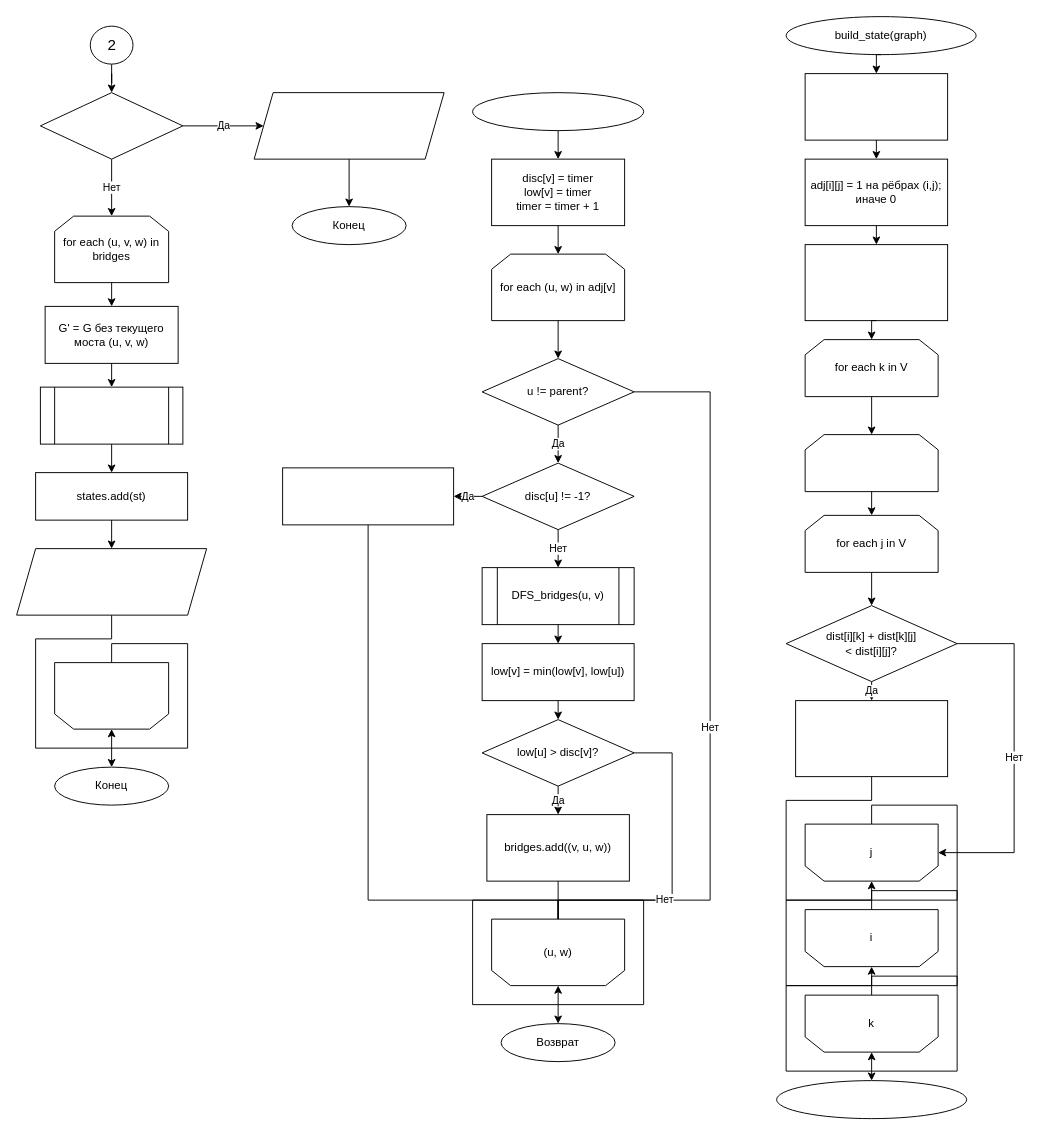
The diagram is 1039 pixels wide and 1135 high, and some of its shapes have lost their labels. Each missing label, with the centre of its shape:
"(u, v, w)" goes at pixel 111 695.
"bridges == []?" goes at pixel 111 125.
"DFS_bridges(v, parent)" goes at pixel 558 111.
"dist[i][j] = dist[i][k] + dist[k][j]" goes at pixel 871 738.
"dist[i][j]: 0 на диагонали; w на рёбрах (i,j); иначе ∞" goes at pixel 876 282.
"for each i in V" goes at pixel 871 463.
"low[v] = min(low[v], disc[u])" goes at pixel 368 496.
"st = build_state(G')" goes at pixel 111 415.
"weight[i][j]: 0 на диагонали; w на рёбрах (i,j); иначе ∞" goes at pixel 876 106.
"Возврат (weight, adj, dist)" goes at pixel 871 1099.
"Вывод (после удаления (u, v)): матрицы weight, adj, dist; граф" goes at pixel 111 581.
"Вывод: «Мостов нет — сеть устойчива»" goes at pixel 348 125.
